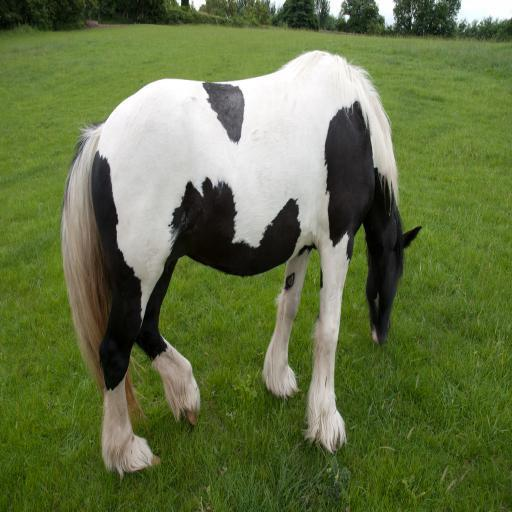horse: (60, 50, 424, 480)
